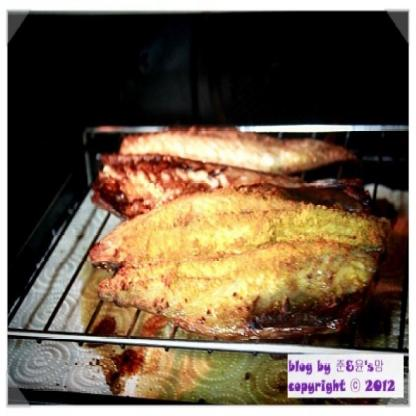Peixe: (60, 171, 405, 340), (86, 121, 368, 213)
